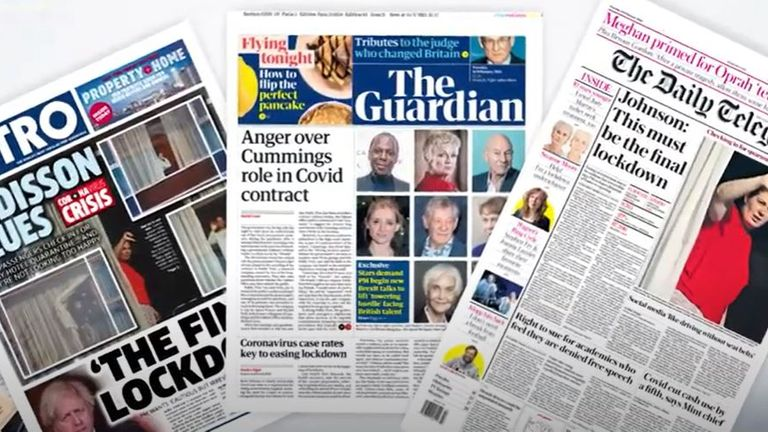news_paper: (389, 5, 768, 418), (1, 10, 347, 432), (225, 10, 566, 432)
